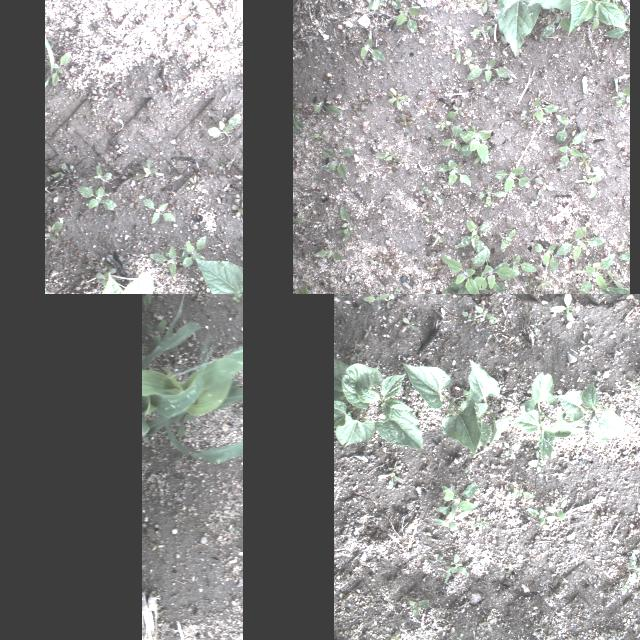crop: (142, 294, 243, 435), (169, 299, 243, 462), (334, 357, 424, 449), (402, 361, 478, 455), (512, 371, 582, 472), (558, 380, 628, 442), (462, 360, 510, 448), (527, 0, 629, 39), (492, 0, 548, 69), (66, 271, 154, 294), (187, 259, 243, 294), (435, 482, 477, 514), (77, 186, 117, 210), (142, 195, 174, 225), (148, 245, 178, 275), (205, 116, 241, 138), (183, 236, 205, 268), (431, 512, 465, 530), (44, 221, 64, 241), (94, 164, 112, 180), (632, 297, 640, 310)
weed: (442, 227, 514, 294), (554, 129, 600, 199), (436, 120, 496, 164), (450, 48, 512, 88), (548, 227, 608, 261), (314, 140, 358, 184), (579, 250, 621, 292), (433, 158, 473, 190), (392, 0, 425, 37), (491, 160, 529, 192), (518, 95, 558, 125), (528, 238, 558, 274), (333, 204, 355, 250), (358, 34, 388, 66), (548, 294, 576, 324), (387, 111, 418, 137), (350, 88, 374, 119), (310, 98, 346, 118), (506, 253, 536, 277), (415, 184, 445, 208), (444, 553, 468, 583), (532, 165, 554, 197), (374, 466, 404, 489), (609, 75, 629, 109), (52, 52, 70, 88), (305, 248, 345, 264), (418, 212, 439, 242), (377, 149, 403, 173), (372, 246, 400, 268), (554, 116, 574, 146), (526, 507, 554, 527), (476, 189, 506, 207), (386, 87, 410, 109), (498, 228, 522, 250), (49, 166, 72, 188), (134, 160, 158, 180), (361, 294, 390, 310), (406, 598, 429, 618), (544, 499, 568, 518), (467, 23, 495, 39), (626, 546, 640, 578), (474, 306, 498, 324), (476, 0, 498, 18), (45, 36, 53, 84), (508, 486, 532, 499), (95, 268, 115, 282), (622, 572, 634, 594), (146, 294, 166, 307), (361, 212, 379, 226), (503, 442, 521, 456), (454, 0, 472, 13), (601, 512, 619, 524), (552, 568, 564, 586), (84, 253, 96, 270), (460, 312, 480, 322), (402, 318, 418, 330), (528, 200, 546, 210), (232, 202, 243, 218), (580, 338, 594, 350), (382, 629, 397, 640), (430, 553, 446, 563), (507, 562, 521, 572), (228, 294, 243, 303), (190, 176, 198, 192), (484, 614, 492, 630), (233, 191, 243, 203), (202, 60, 216, 68), (472, 521, 488, 527), (530, 322, 538, 334), (410, 543, 418, 553), (356, 588, 366, 596), (340, 592, 344, 608), (464, 466, 471, 474), (604, 632, 611, 640), (486, 334, 492, 341), (637, 523, 640, 534), (454, 636, 461, 640)
